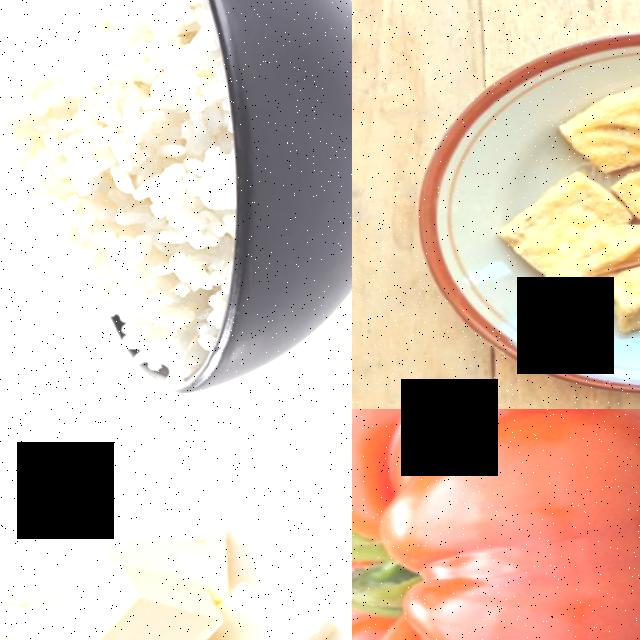tofu: (48, 562, 222, 640), (491, 178, 625, 277), (197, 579, 337, 640), (554, 82, 640, 171), (601, 248, 640, 335)
tomato: (352, 409, 640, 640)
white rice: (0, 0, 207, 371)
